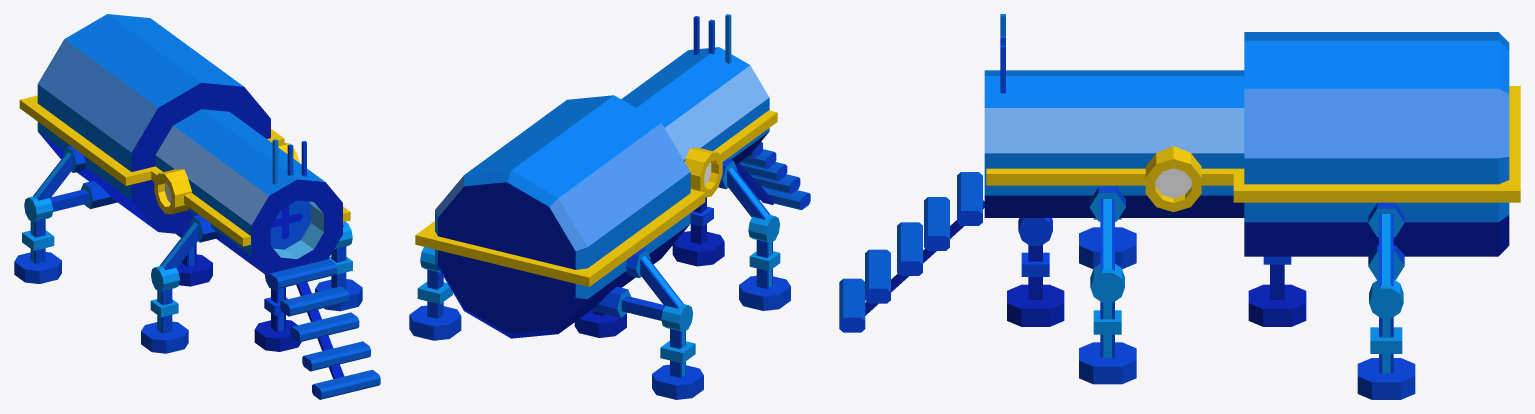
Rendered from Building_038_b.fbx.
The picture shows the model from 3 angles, left to right: view 1: azimuth 30°, elevation 25°; view 2: azimuth 150°, elevation 25°; view 3: azimuth 270°, elevation 25°; orthographic projection. The views are drawn at different scales.
Parts seen in each view (by area): view 1: Building_038_b; view 2: Building_038_b; view 3: Building_038_b.
Boxes of the visible parts, x1=… form: Building_038_b: x1=14, y1=14, x2=380, y2=399; Building_038_b: x1=409, y1=14, x2=810, y2=399; Building_038_b: x1=839, y1=14, x2=1520, y2=399.
Size of the model in its own units: 22.17 by 17.55 by 37.42.
